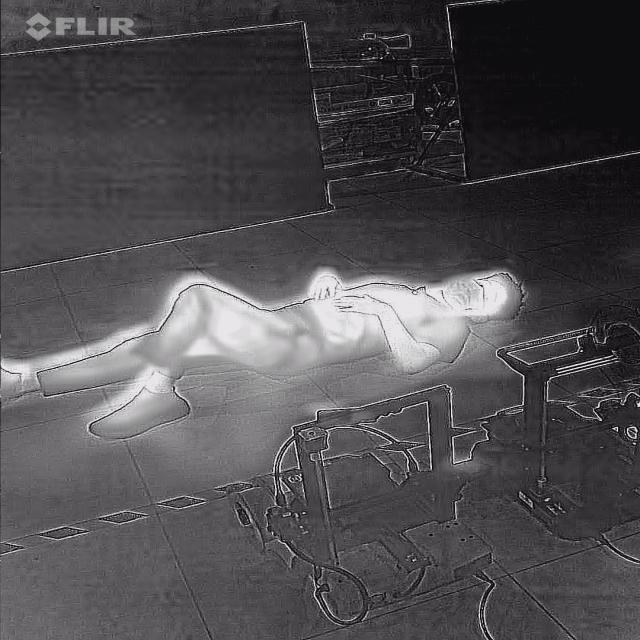Victim: (3, 264, 530, 443)
